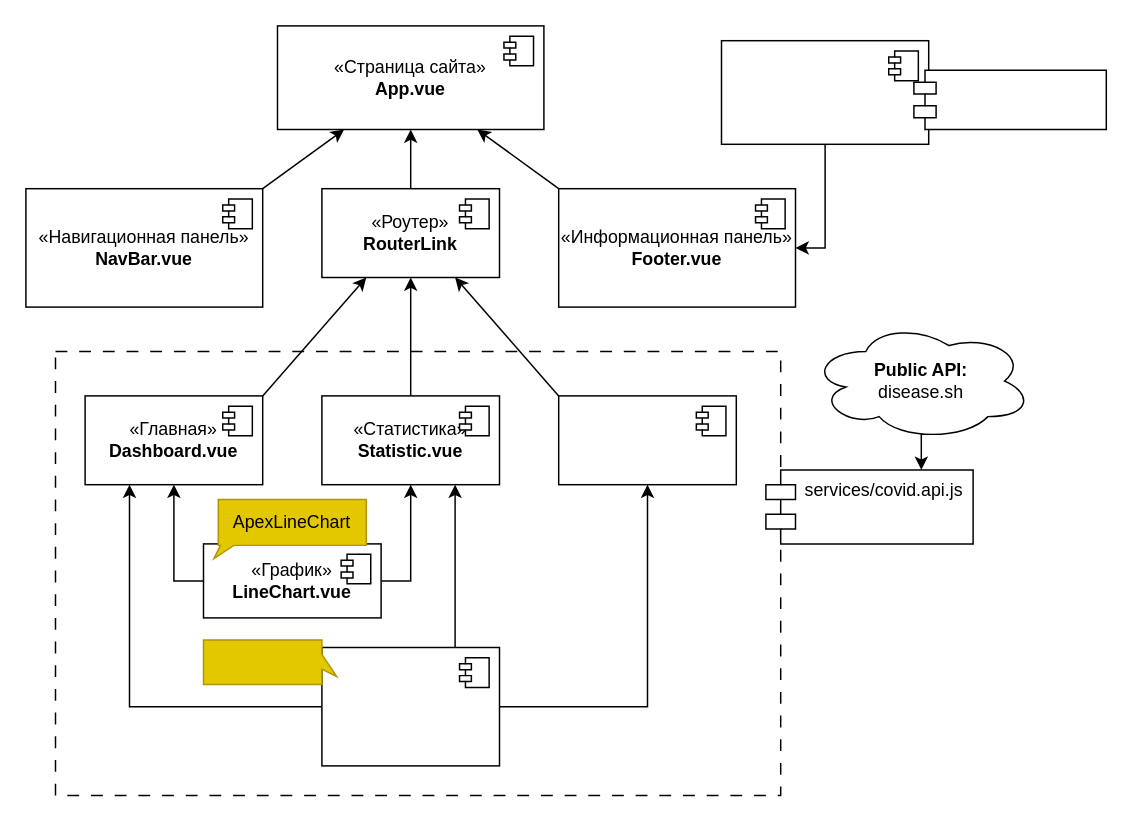
The diagram is 1132 pixels wide and 821 high, and some of its shapes have lost their labels. Here are the shapes that lost their labels. From the top down, the box of each, then its label:
(720, 39, 929, 144): «Смена темы» ThemeButon.vue
(912, 69, 1106, 130): stores/theme.js stores/mobile.js
(557, 394, 736, 485): «Карта» Map.vue
(202, 639, 337, 684): Leaflet
(320, 646, 500, 766): «Статистический контейнер» StatItem.vue StatCard.vue
